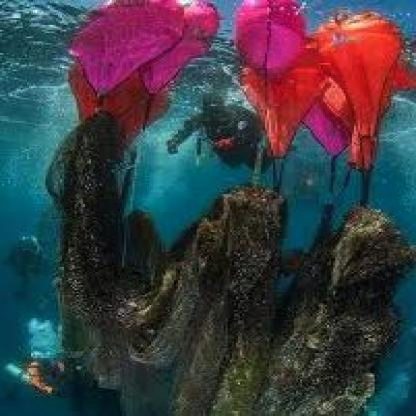net: (44, 164, 416, 416)
